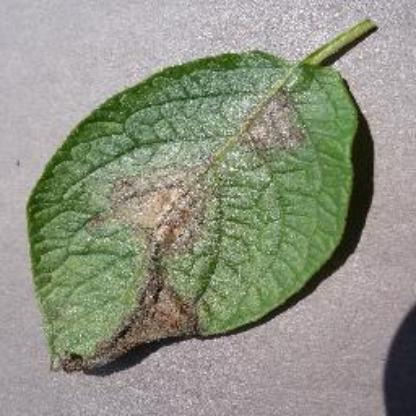Late-Blight: (6, 8, 392, 408)
